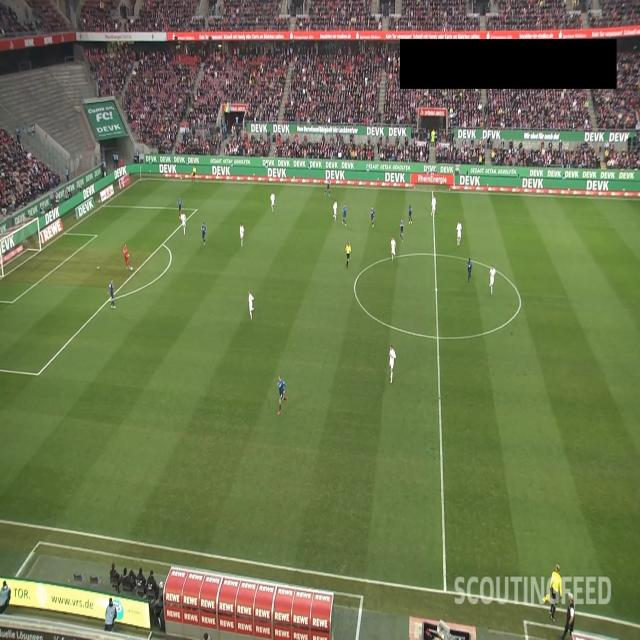ball: (130, 266, 134, 272)
